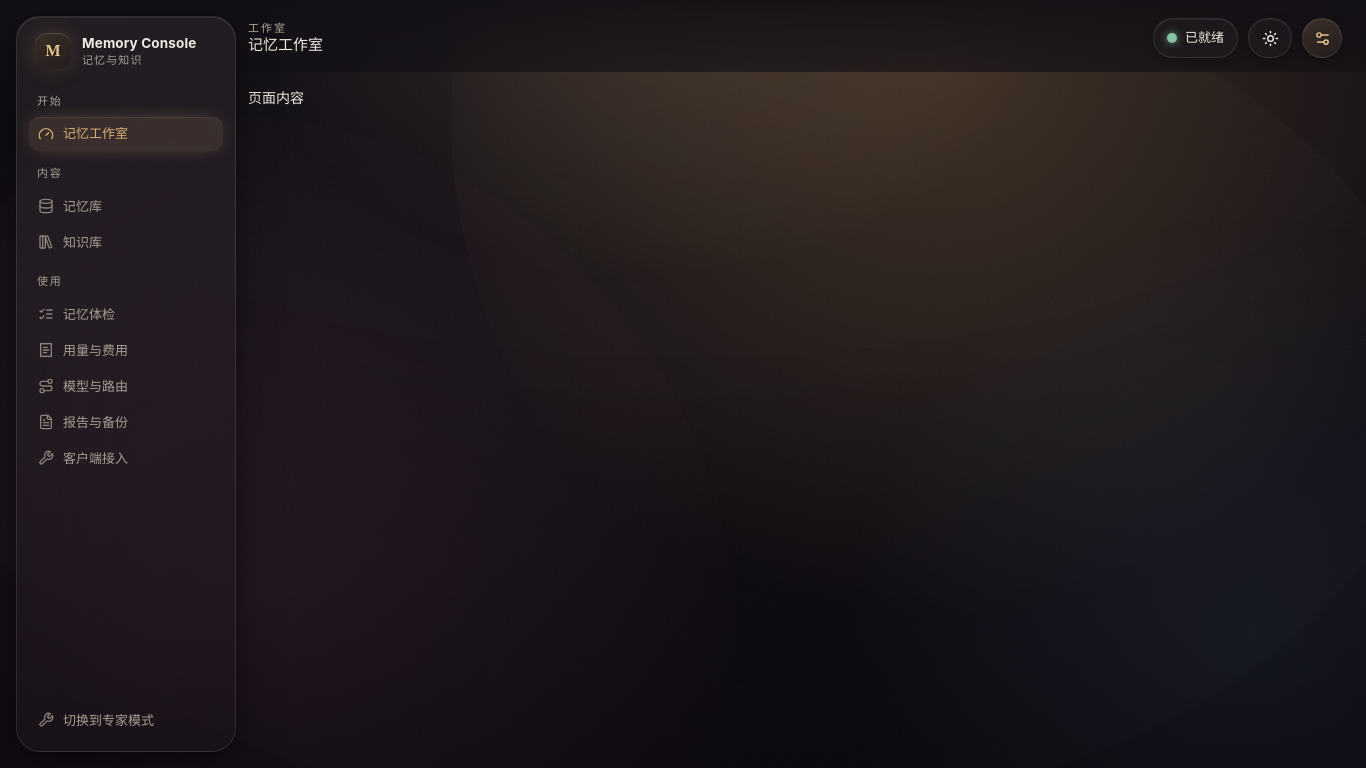
simple and expert navigation › defaults to common pages and exposes expert tools on demand
Expected: the button "评测闭环" is not shown
Click the button "切换到专家模式" at (126, 718), box [29,699,223,737]
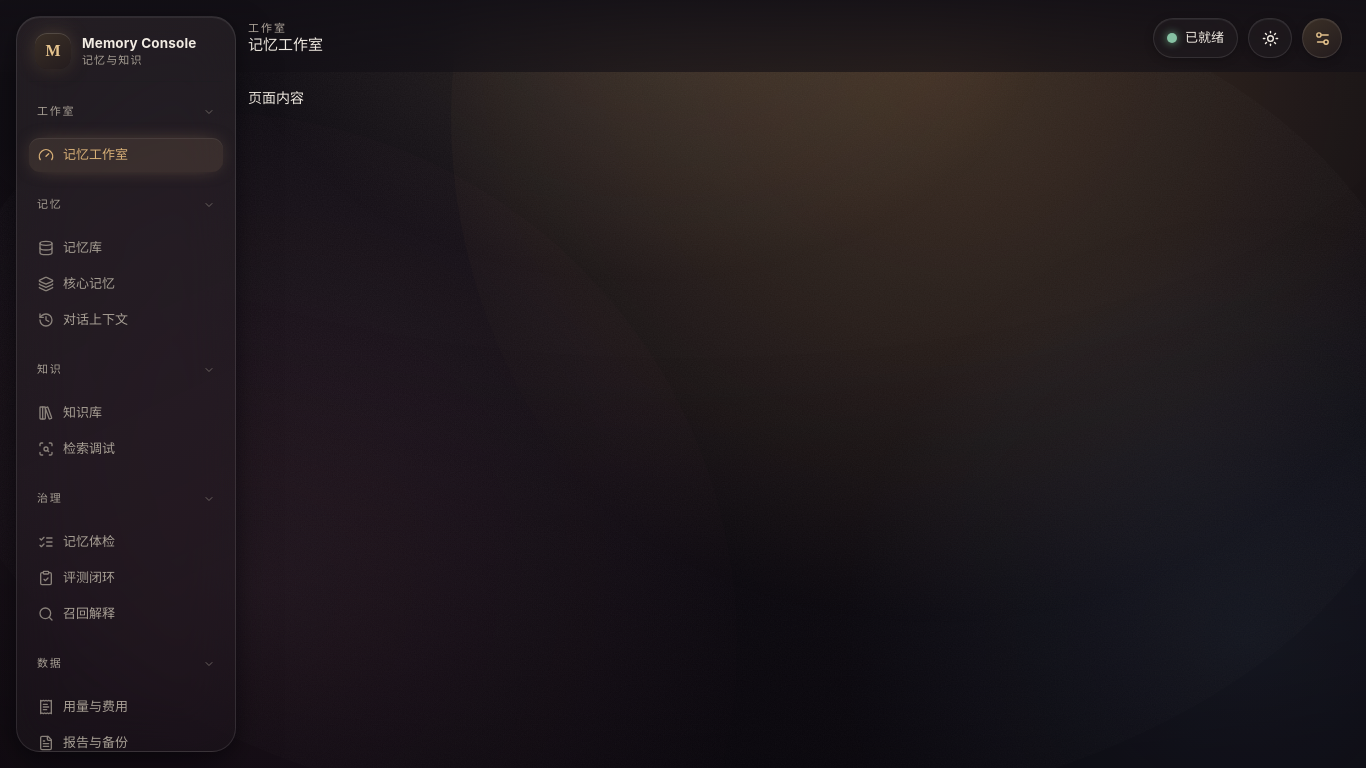
Now the button "评测闭环" is shown, box [29,561,223,595]
